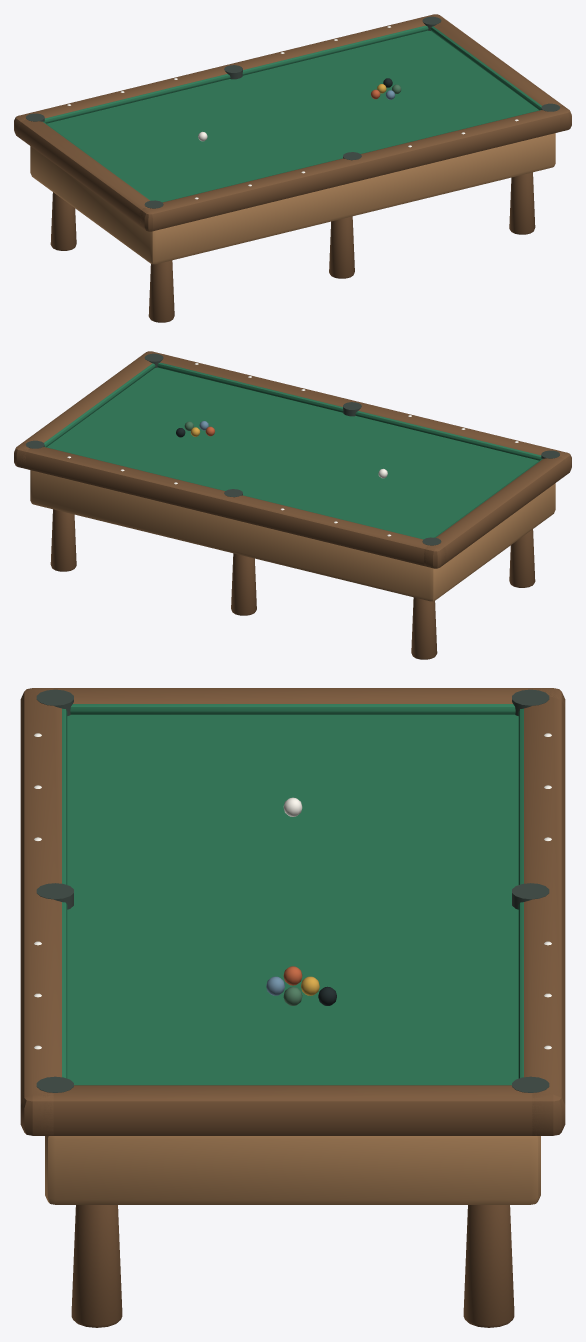
The model's file is billiard_table.glb.
The picture shows the model from 3 angles, top to bottom: view 1: azimuth 30°, elevation 25°; view 2: azimuth 150°, elevation 25°; view 3: azimuth 270°, elevation 25°; orthographic projection. The views are drawn at different scales.
Parts seen in each view (by area): view 1: FURN-billiard_table; view 2: FURN-billiard_table; view 3: FURN-billiard_table.
Boxes of the visible parts, x1,y1,x2,y2 form: FURN-billiard_table: (14, 14, 571, 322); FURN-billiard_table: (14, 351, 571, 659); FURN-billiard_table: (20, 688, 565, 1327).
Bounding box in the file's own units: 2.84 × 0.816 × 1.57.
